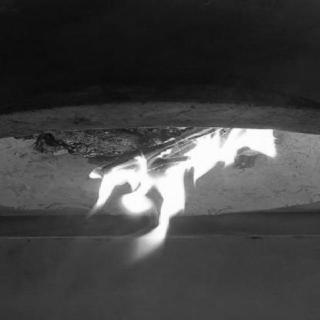Fire: (77, 124, 281, 263)
